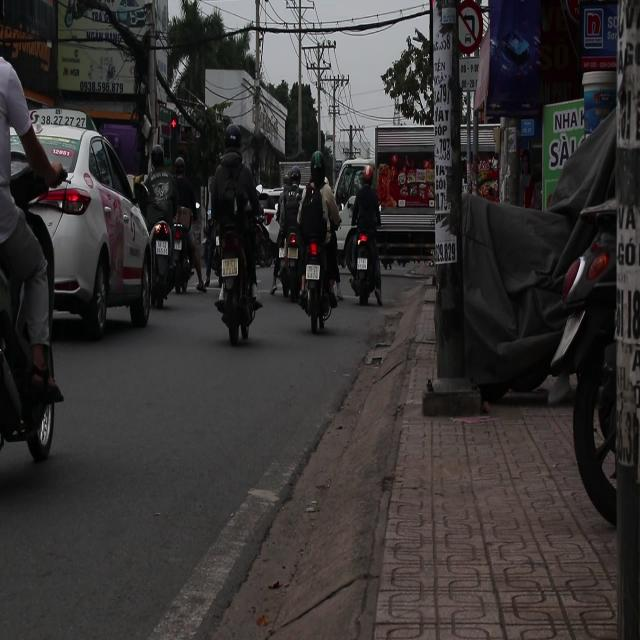car: (25, 124, 151, 340), (334, 158, 373, 210)
motorbike: (0, 197, 62, 472), (212, 221, 266, 353), (302, 227, 334, 345), (145, 219, 176, 310)
truck: (374, 126, 441, 279)
